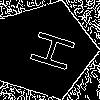H: (19, 25, 76, 74)
